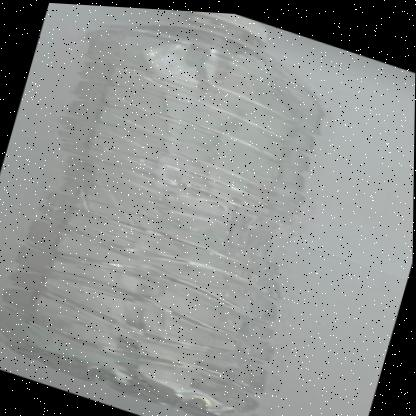bottle cap: (59, 4, 360, 150)
